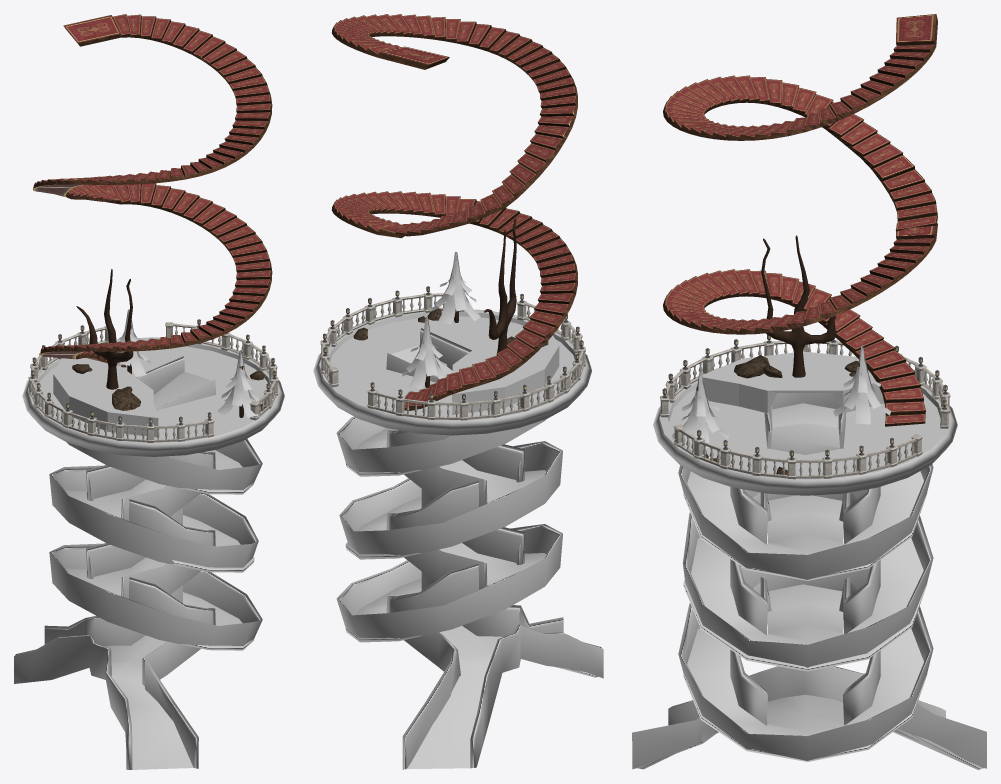
The model's file is Spooky_Tower_Stairs_02_Art.fbx.
The picture shows the model from 3 angles, left to right: view 1: azimuth 30°, elevation 25°; view 2: azimuth 150°, elevation 25°; view 3: azimuth 270°, elevation 25°; orthographic projection. The views are drawn at different scales.
Parts seen in each view (by area): view 1: Spooky_Tower_Stairs_02_Art; view 2: Spooky_Tower_Stairs_02_Art; view 3: Spooky_Tower_Stairs_02_Art.
Boxes of the visible parts, bbox=[...] form: Spooky_Tower_Stairs_02_Art: bbox=[14, 14, 284, 769]; Spooky_Tower_Stairs_02_Art: bbox=[313, 14, 603, 769]; Spooky_Tower_Stairs_02_Art: bbox=[632, 14, 986, 769].
Size of the model in its own units: 1185 by 3230 by 1380.
